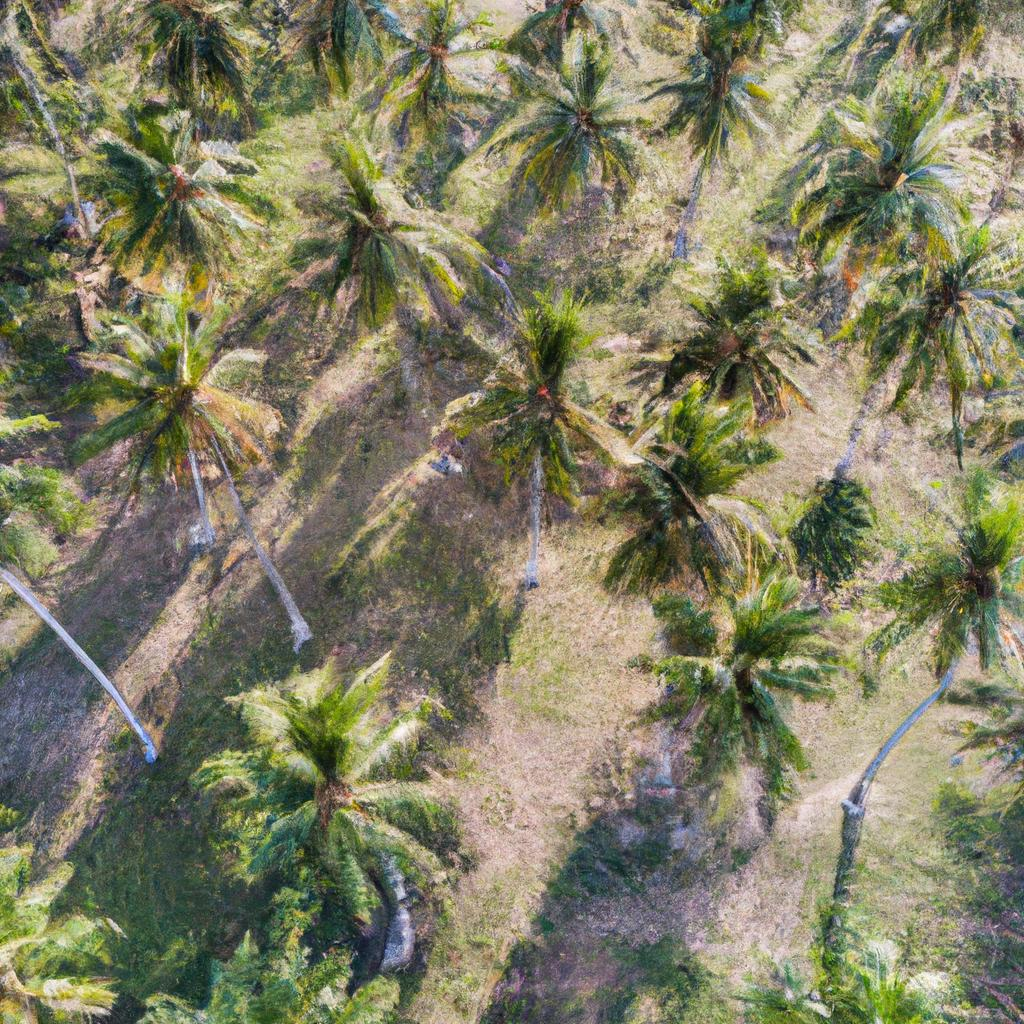coconut_tree: (179, 613, 495, 949), (74, 269, 325, 535), (614, 529, 844, 791), (427, 260, 632, 550), (778, 52, 1002, 280), (279, 107, 495, 324)
